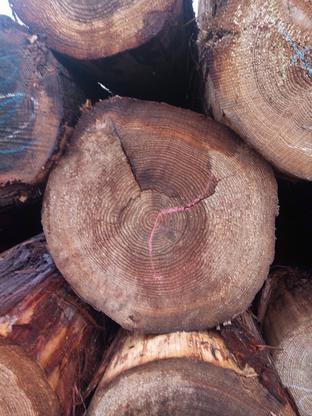mood: (43, 99, 279, 333)
